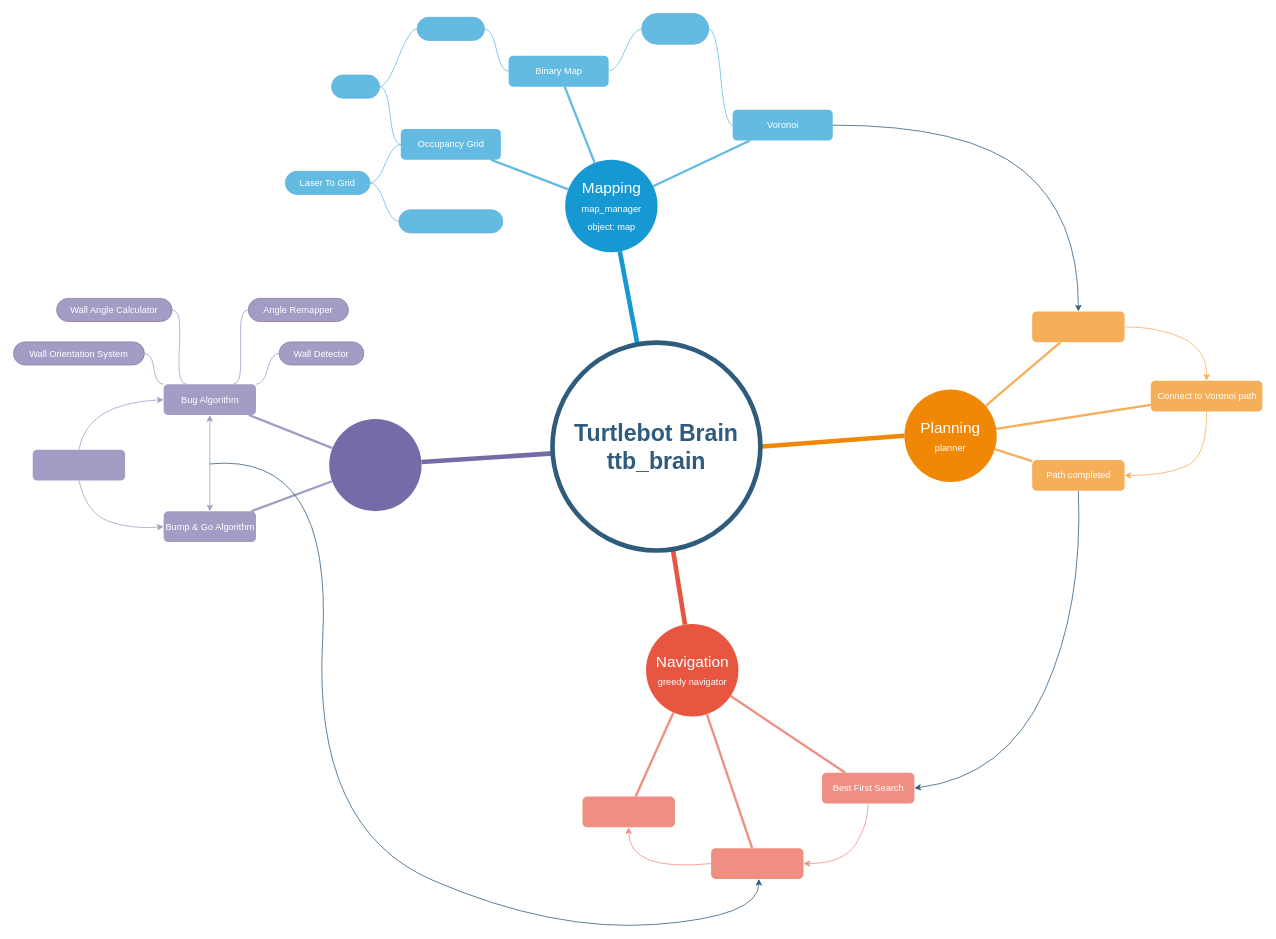
The diagram is 1276 pixels wide and 939 high, and some of its shapes have lost their labels. The shapes that lost their labels are listed below. From the top down, each one's box as (x1, y1, x2, y2) in pixels, then its label:
(416, 17, 484, 40): Downscaling
(641, 13, 709, 44): Image Processing
(331, 74, 380, 98): Filtering
(398, 209, 503, 233): Get Middle Points
(1032, 311, 1124, 342): Get path
(32, 449, 125, 480): Adyacency Map
(329, 418, 421, 511): Exploration explorer bug_nav
(582, 796, 675, 827): PID
(711, 848, 803, 879): Turtlebot Control
